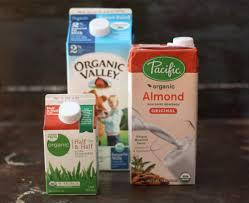cardboard: (66, 8, 131, 169), (128, 37, 198, 184), (43, 94, 96, 193)
